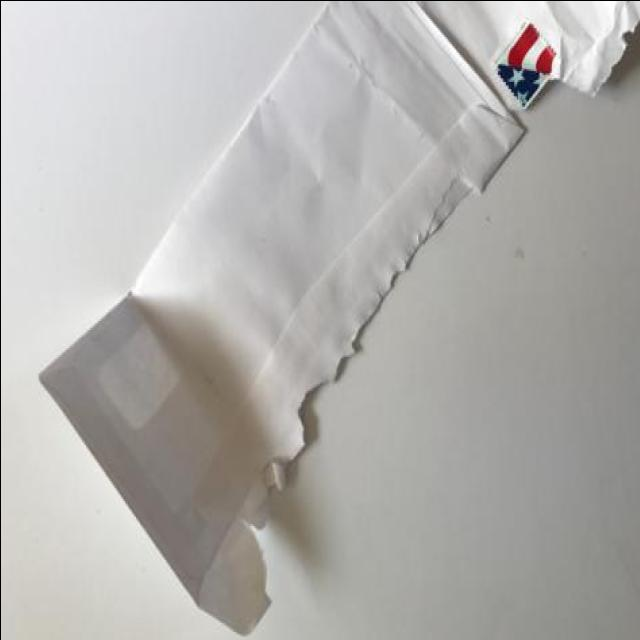kertas: (37, 0, 640, 639)
